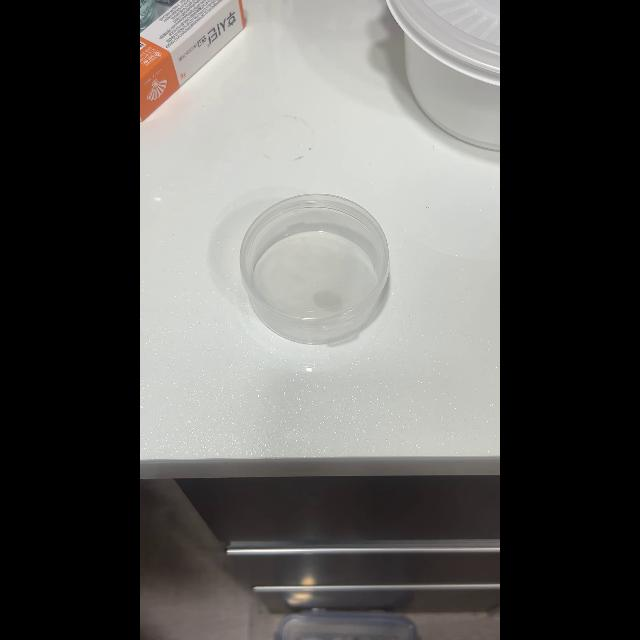clean: (239, 192, 391, 344)
